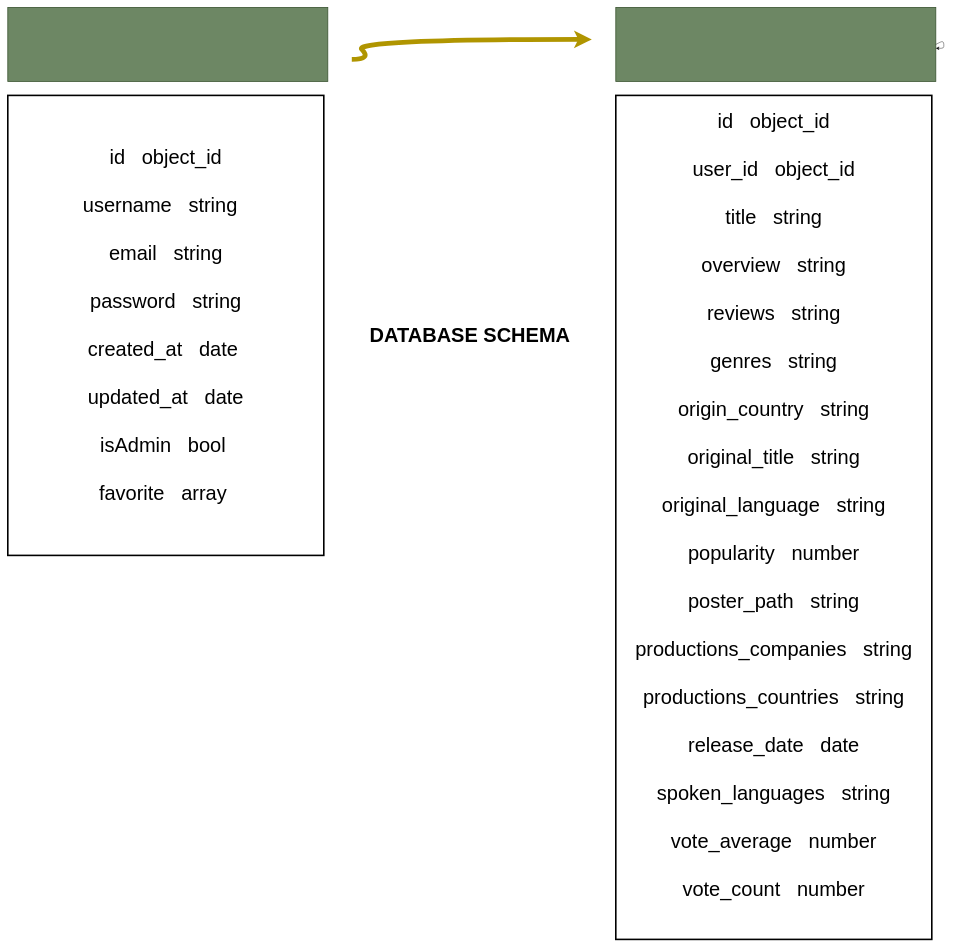
The diagram is 954 pixels wide and 950 high, and some of its shapes have lost their labels. The shapes that lost their labels are listed below. From the top down, each one's centre as x and y in pixels, then its label:
At (167,44): "USER".
At (775,44): "MOVIES".
